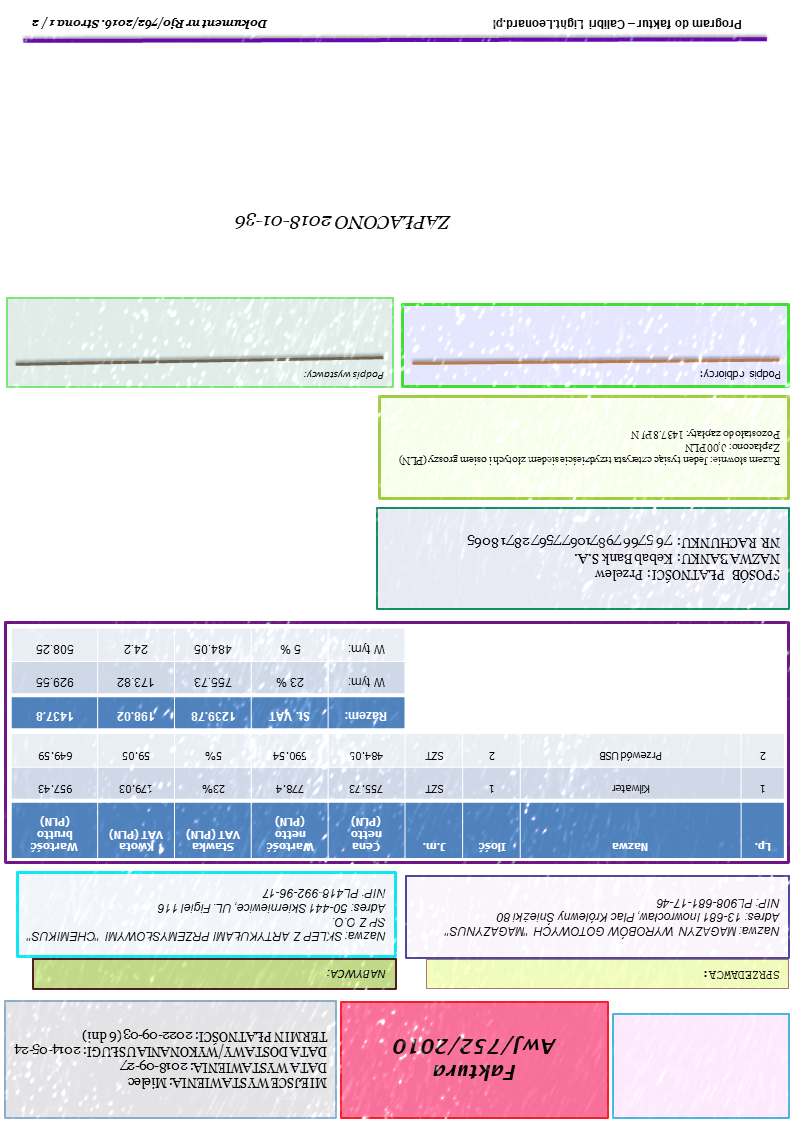Table: (11, 733, 785, 859), (10, 627, 407, 731)
TextBox: (24, 886, 390, 946), (12, 1026, 329, 1094), (466, 531, 782, 589), (396, 426, 782, 469), (441, 895, 782, 941), (388, 1032, 560, 1086), (229, 211, 455, 235), (490, 15, 745, 35), (29, 14, 269, 35), (698, 367, 783, 387), (702, 967, 783, 986), (305, 368, 388, 385), (326, 967, 390, 985)
